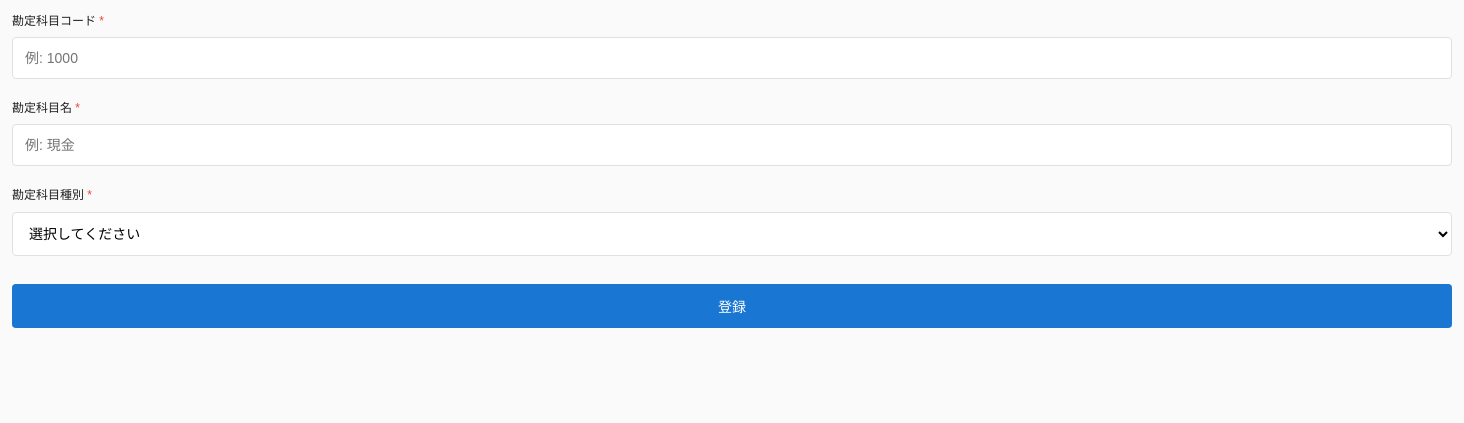
Test: CreateAccountForm › shows success message on successful registration
The width and height of the screenshot is (1464, 423).
Type "1000" into the field with test id "create-account-code-input".
click(732, 58); type("1000")  # box [12,37,1452,79]
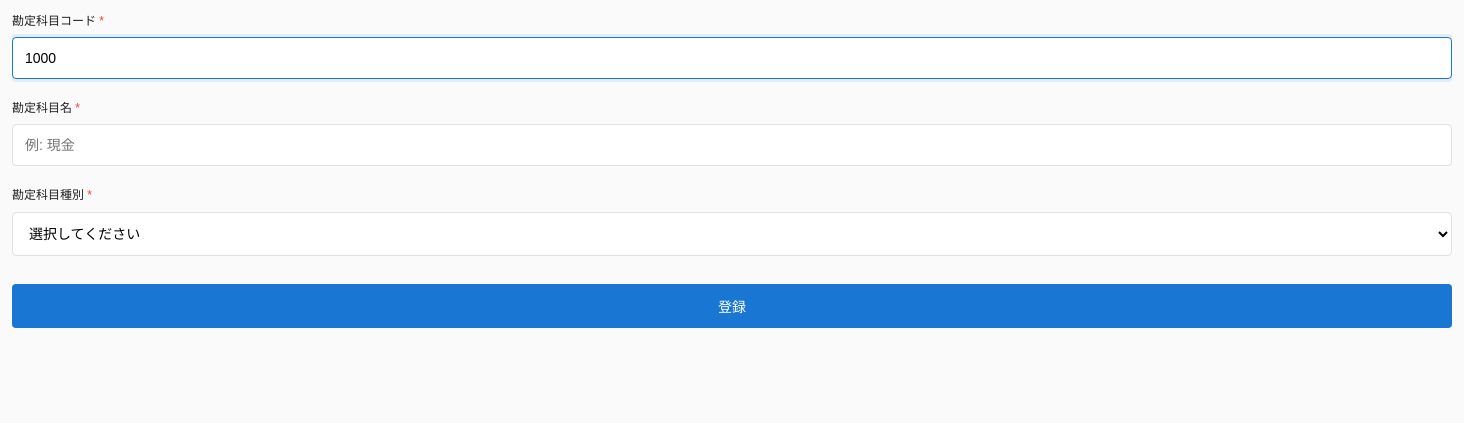
Type "現金" into the field with test id "create-account-name-input".
click(732, 145); type("現金")  # box [12,124,1452,166]
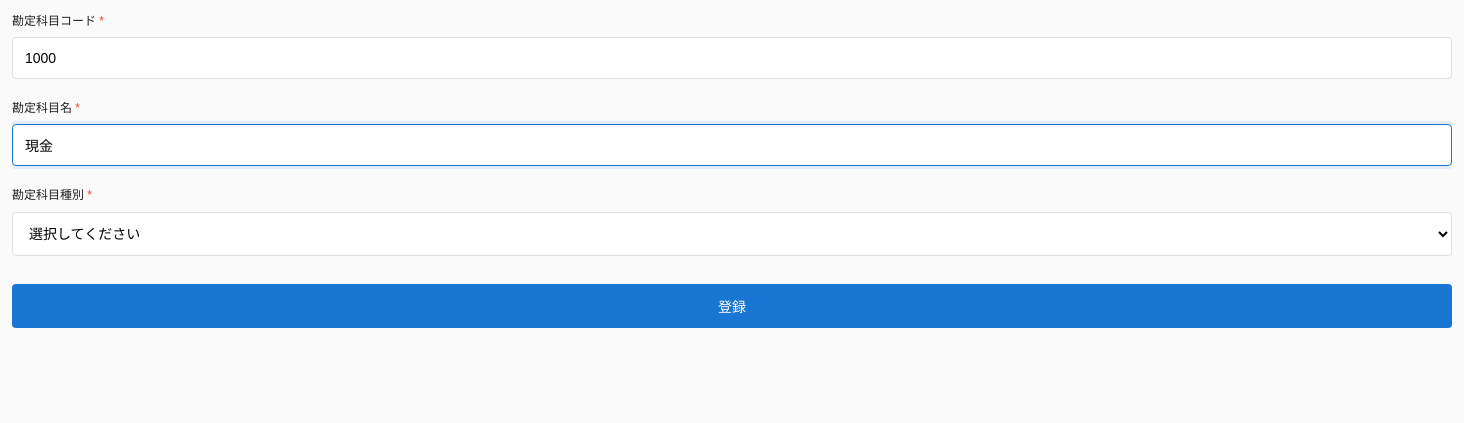
Select "ASSET" in the dropdown with test id "create-account-type-select" at x=732, y=234, box [12,212,1452,256]
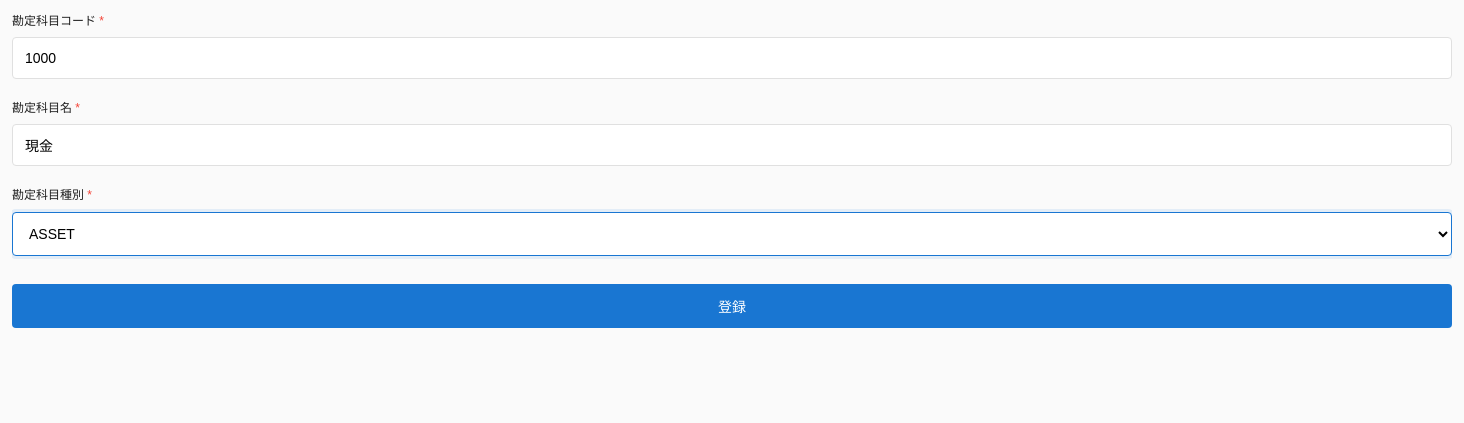
Click the button with test id "create-account-submit".
click(732, 306)  # box [12,284,1452,328]
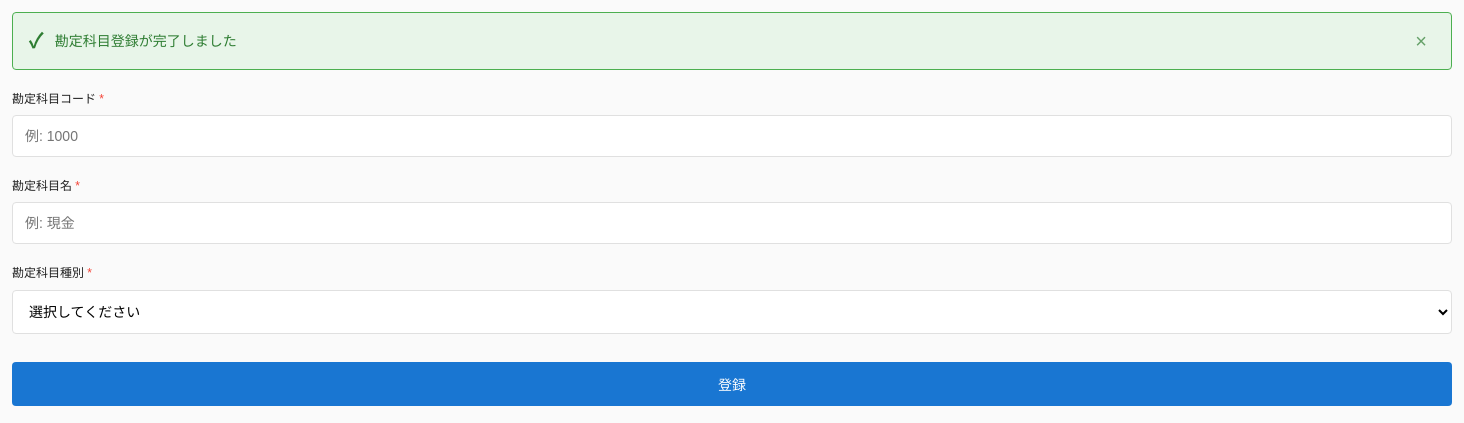
Result: the element with test id "create-account-success" is shown at [12,12,1452,70]
Result: the text "勘定科目登録が完了しました" is shown at [55,33,237,49]
